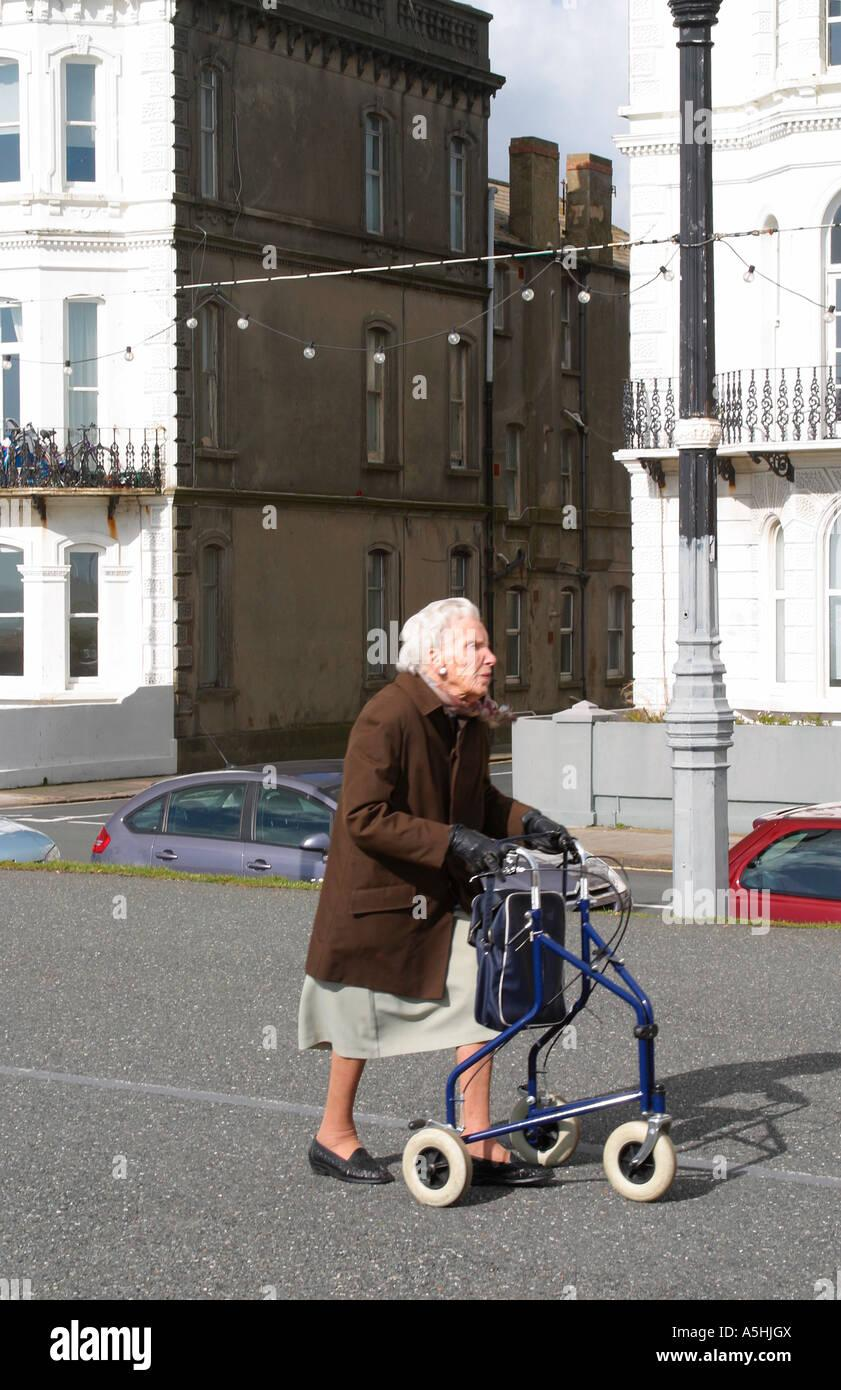walking_frame: (298, 596, 680, 1208)
